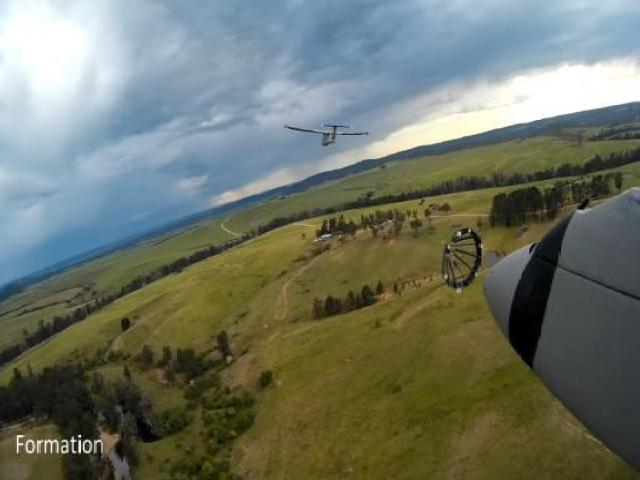uav: (282, 118, 370, 148)
